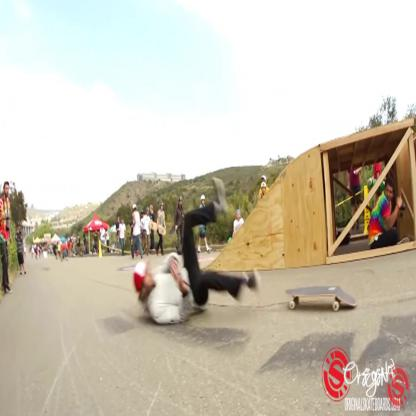Fall_Down: (134, 176, 260, 326)
